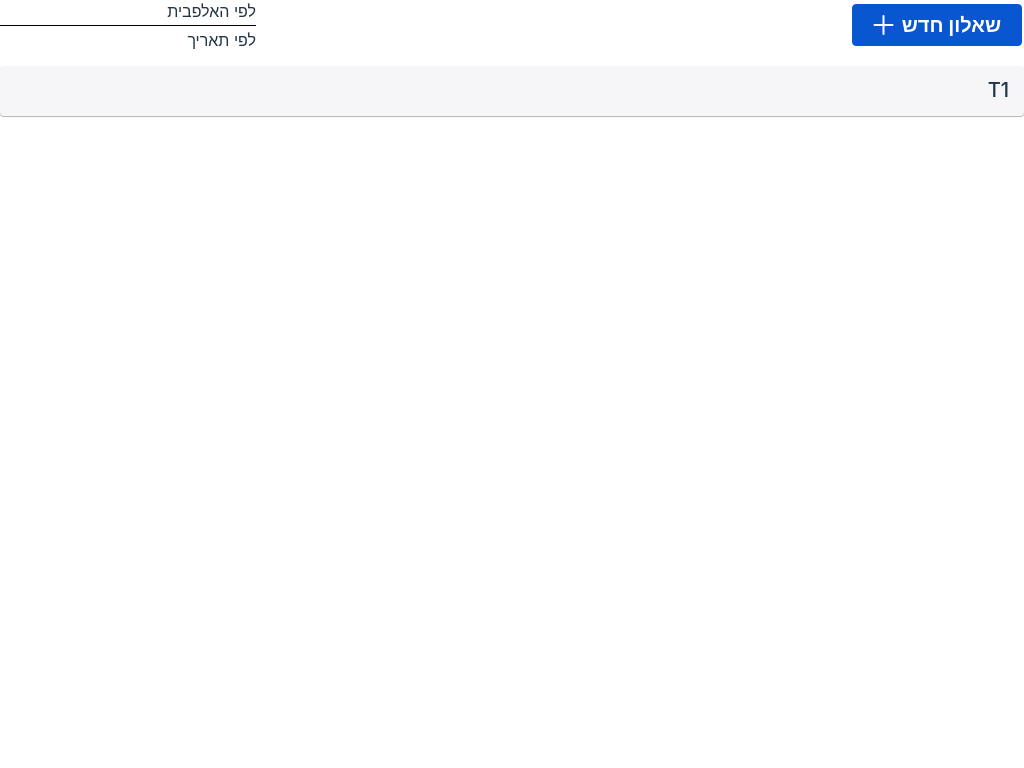
Test: Templates list › renames a template via pencil icon and persists full payload
Note: Hover to reveal icons
Hover over the element showing "T1" at (998, 90), box x1=988 y1=78 x2=1009 y2=102
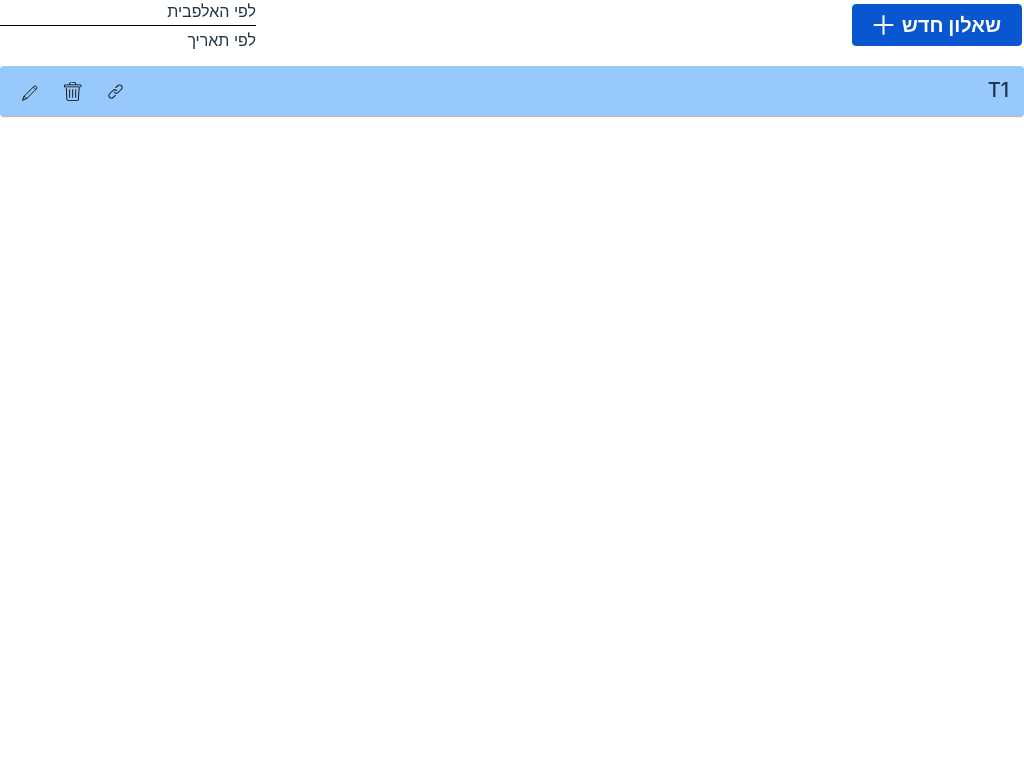
Click the button named "שינוי שם" at (31, 91), box x1=15 y1=75 x2=47 y2=107
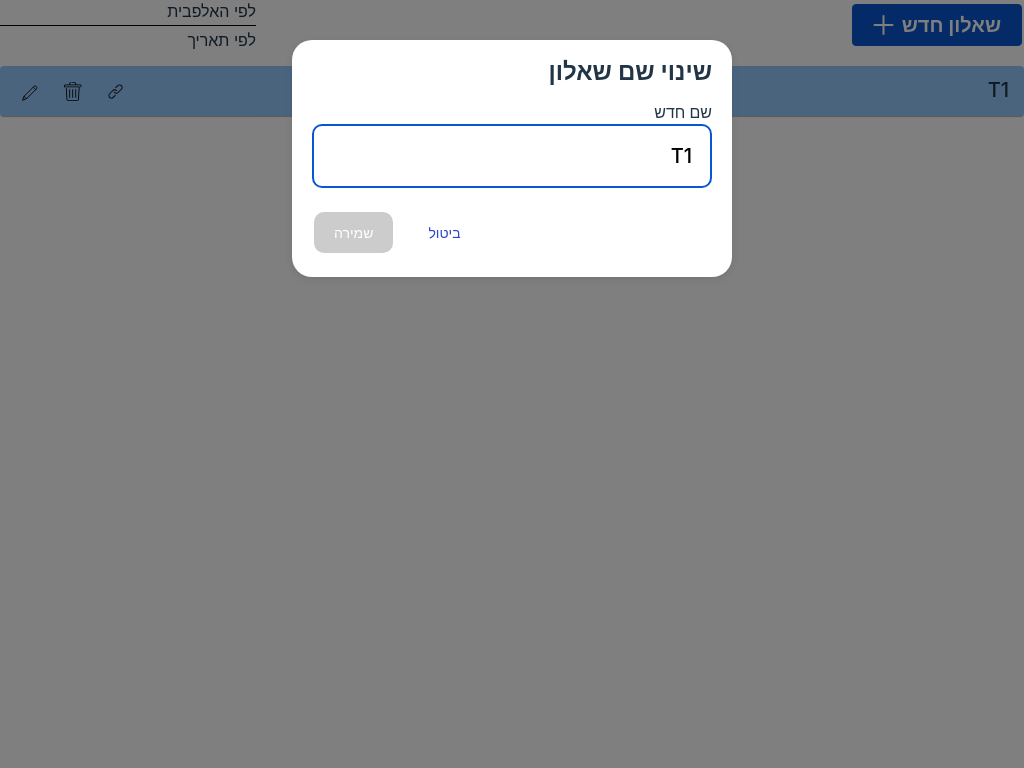
Expected: the heading "שינוי שם שאלון" is shown, x1=548 y1=57 x2=712 y2=86
Replace the text in the field labelled "שם חדש" with "T1 Renamed" at (512, 156), box x1=332 y1=136 x2=692 y2=176
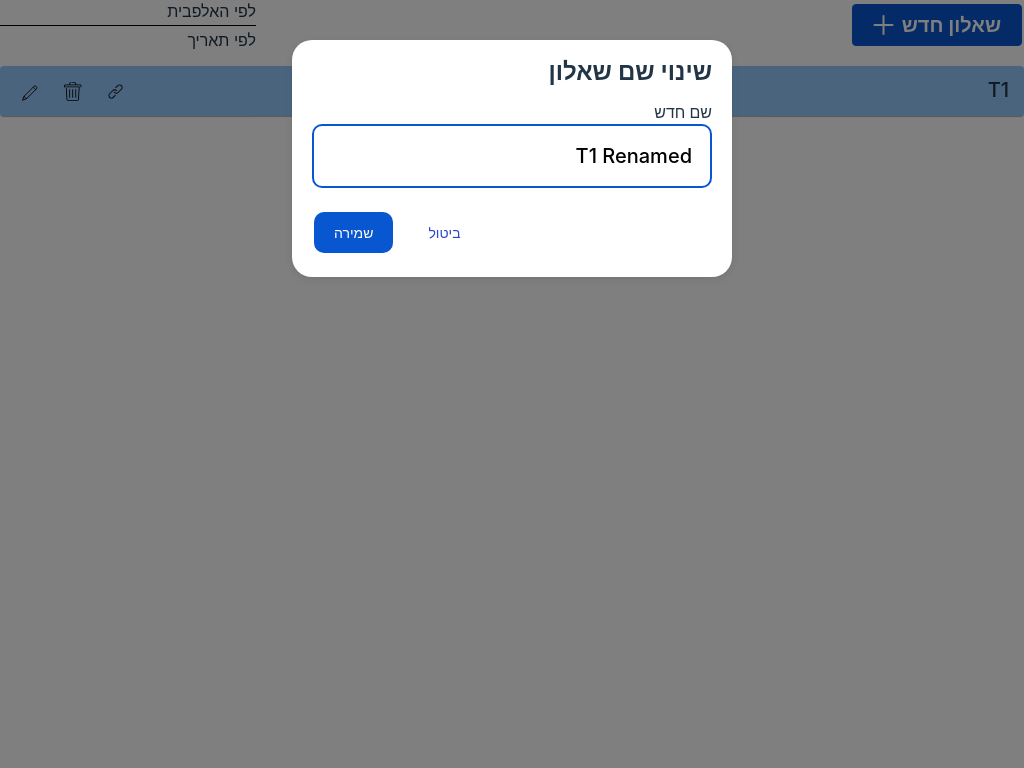
Click the button "שמירה" at (354, 232), box x1=314 y1=212 x2=393 y2=253
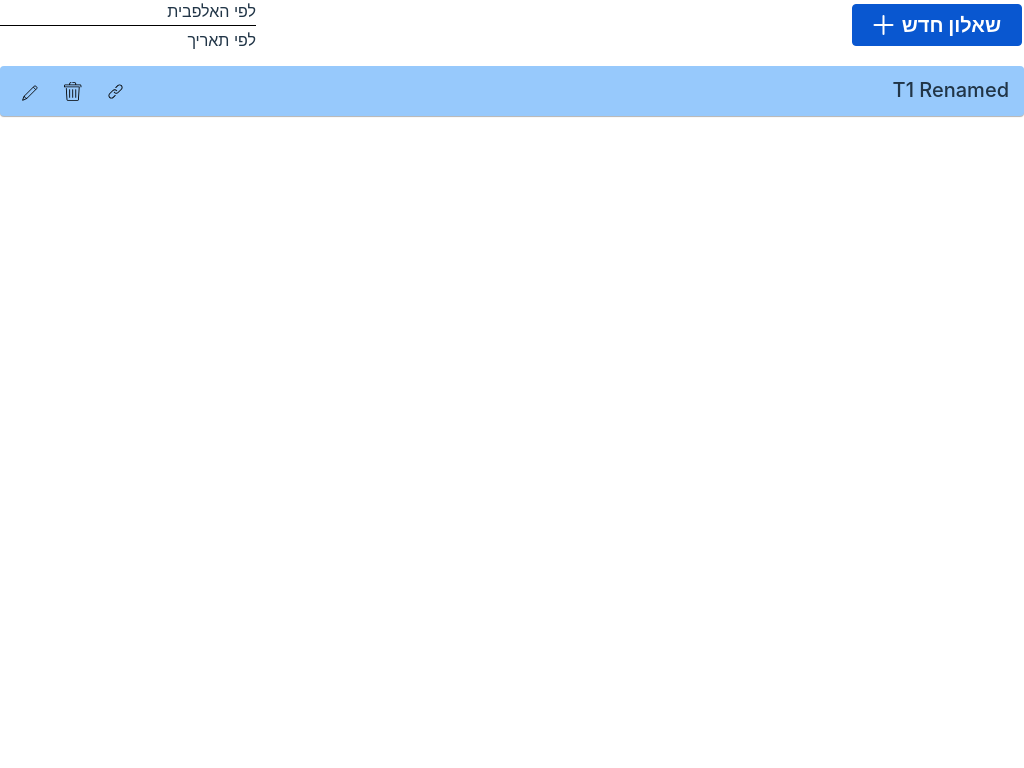
Expected: the text "T1 Renamed" is shown, x1=893 y1=78 x2=1009 y2=102
